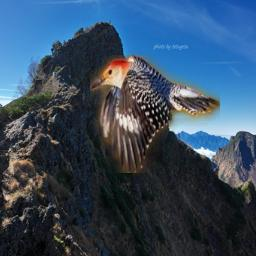Woodpecker: (90, 55, 220, 173)
